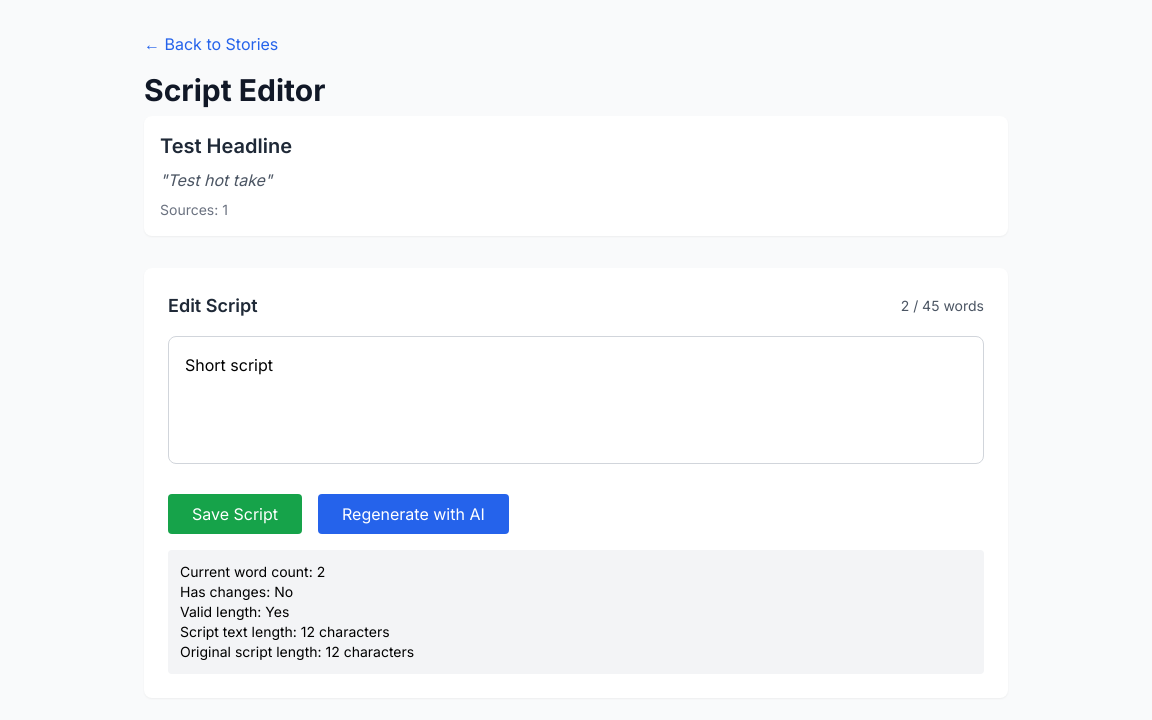
ScriptPage › script editing › should show error when script exceeds word limit
Replace the text in the text box showing "Short script" with "This is a very long script that exceeds the maximum word limit of forty-five words by including many unnecessary words that would make the video too long for the target duration of ten to fifteen seco" at (576, 400), box [168,336,984,464]
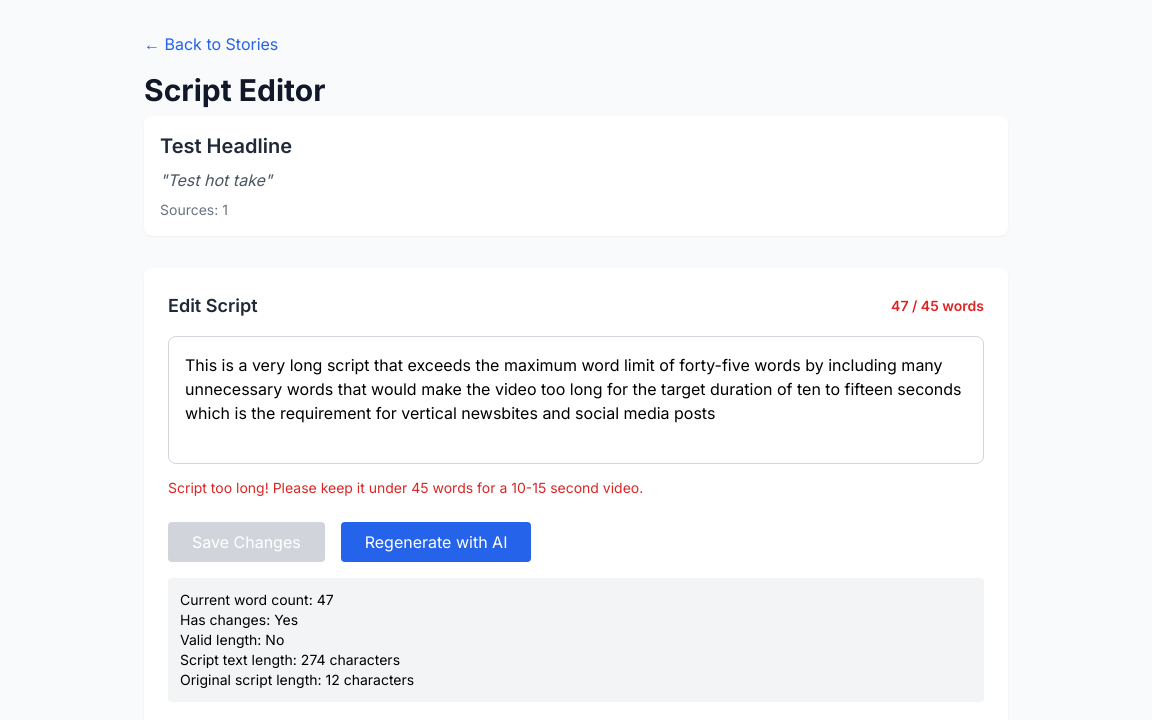
Check: the text "Script too long" is shown, box [168,479,643,496]
Check: the button "Save Changes" is disabled, box [168,522,325,562]
